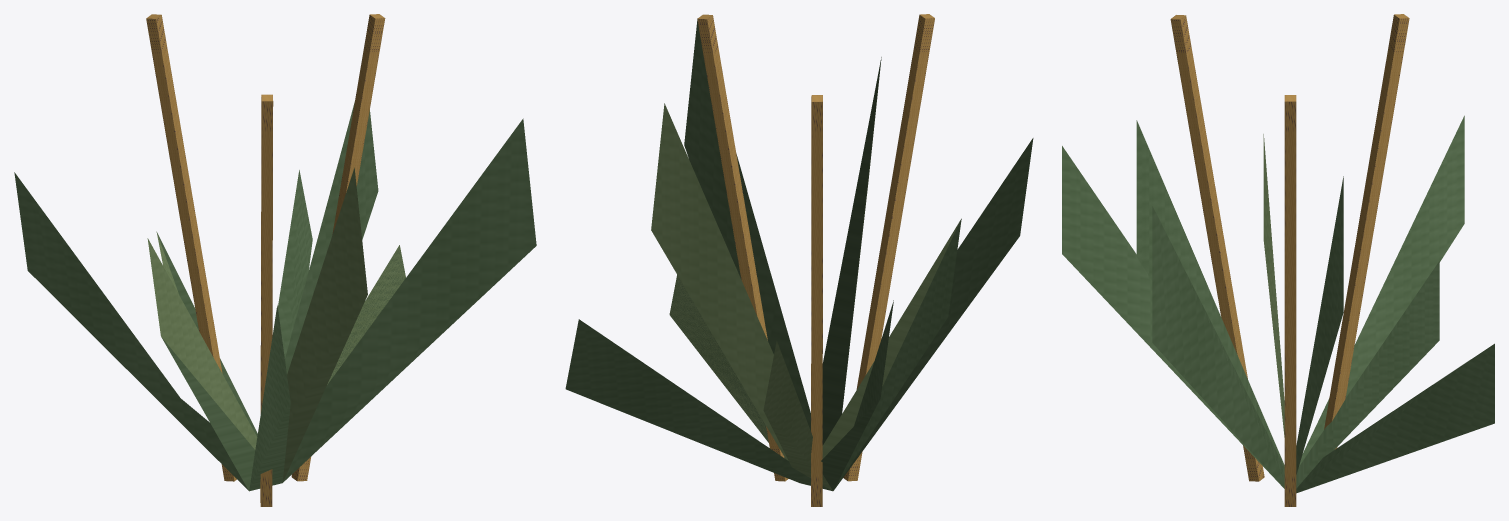
File: WeedClump.fbx
3 views of the same model, side by side, from view 1: azimuth 30°, elevation 25°; view 2: azimuth 150°, elevation 25°; view 3: azimuth 270°, elevation 25° (orthographic).
Visible parts, largest first — view 1: WeedClump; view 2: WeedClump; view 3: WeedClump.
Boxes of the visible parts, box(x1,y1,x2,y2) form: WeedClump: box(14, 14, 536, 506); WeedClump: box(565, 14, 1033, 506); WeedClump: box(1062, 14, 1494, 506).
Bounding box in the file's own units: 32.82 × 38.16 × 33.62.
